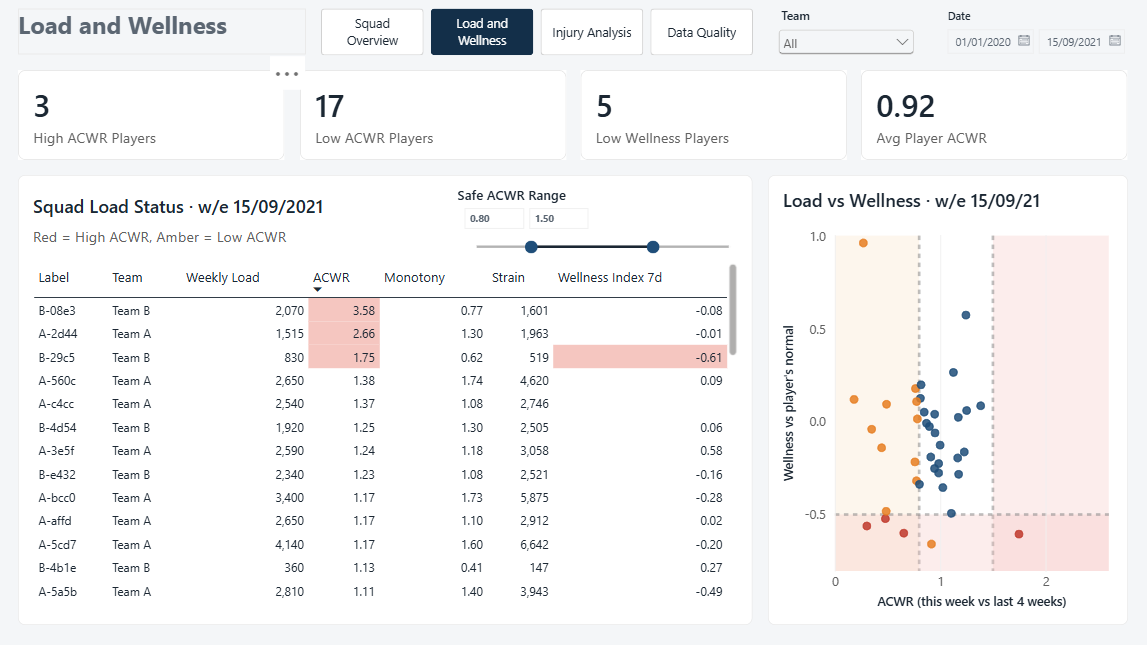

Layout of this report page (visuals, bound fields, positions):
{"tool":"powerbi","page":{"name":"Load and Wellness","canvas":[1280,720],"ordinal":1},"visuals":[{"type":"scatterChart","fields":{"Category":["Players.Label"],"X":["_Measure.ACWR"],"Y":["_Measure.Wellness Index 7d"]},"box":[856,196,400,500],"z":5000},{"type":"tableEx","fields":{"Values":["Players.Label","Players.Team","_Measure.Weekly Load","_Measure.ACWR","_Measure.Monotony","_Measure.Strain","_Measure.Wellness Index 7d"]},"box":[24,196,816,500],"z":5125},{"type":"slicer","title":"Safe ACWR Range","fields":{"Values":["ACWR Band.ACWR Band"]},"box":[512,208,320,80],"z":5187},{"type":"cardVisual","title":"Avg Player ACWR KPI","fields":{"Data":["_Measure.Avg Player ACWR"]},"box":[960,80,296,100],"z":5250},{"type":"cardVisual","title":"Low Wellness KPI","fields":{"Data":["_Measure.Low Wellness Players"]},"box":[648,80,296,100],"z":5500},{"type":"cardVisual","title":"Low ACWR KPI","fields":{"Data":["_Measure.Low ACWR Players"]},"box":[336,80,296,100],"z":6000},{"type":"cardVisual","title":"High ACWR KPI","fields":{"Data":["_Measure.High ACWR Players"]},"box":[24,80,296,100],"z":7000},{"type":"slicer","title":"Date Slicer","fields":{"Values":["Date.Date"]},"box":[1048,12,208,52],"z":9000},{"type":"slicer","title":"Team Slicer","fields":{"Values":["Players.Team"]},"box":[864,10,160,64],"z":9500},{"type":"pageNavigator","box":[360,12,480,52],"z":10250},{"type":"textbox","title":"Title","box":[24,12,320,52],"z":10500}]}

Visuals, with their boxes in screenshot pixels (x1, y1, x2, y2), scaled from the page's 1280x720 canvas onto the 1147x645 screenshot:
scatterChart - Players.Label x _Measure.ACWR: locate(767, 176, 1125, 624)
tableEx - Players.Label x Players.Team: locate(22, 176, 753, 624)
"Safe ACWR Range" slicer: locate(459, 186, 746, 258)
"Avg Player ACWR KPI" cardVisual: locate(860, 72, 1125, 161)
"Low Wellness KPI" cardVisual: locate(581, 72, 846, 161)
"Low ACWR KPI" cardVisual: locate(301, 72, 566, 161)
"High ACWR KPI" cardVisual: locate(22, 72, 287, 161)
"Date Slicer" slicer: locate(939, 11, 1125, 57)
"Team Slicer" slicer: locate(774, 9, 918, 66)
pageNavigator: locate(323, 11, 753, 57)
"Title" textbox: locate(22, 11, 308, 57)
